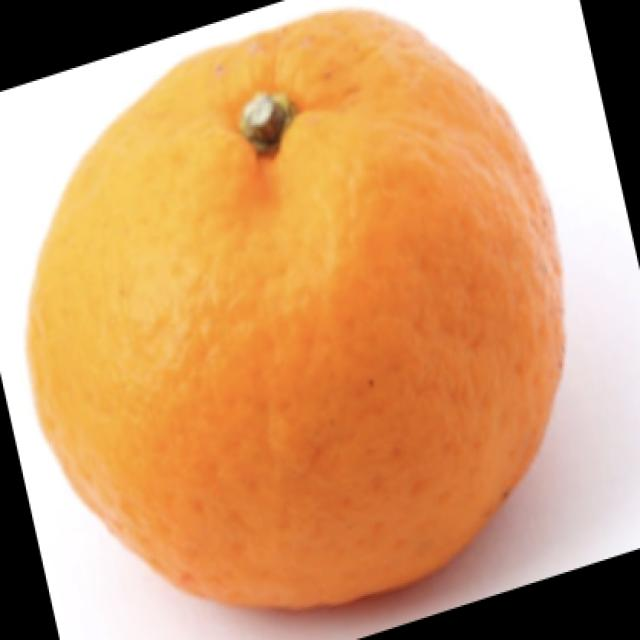matang: (28, 9, 561, 610)
